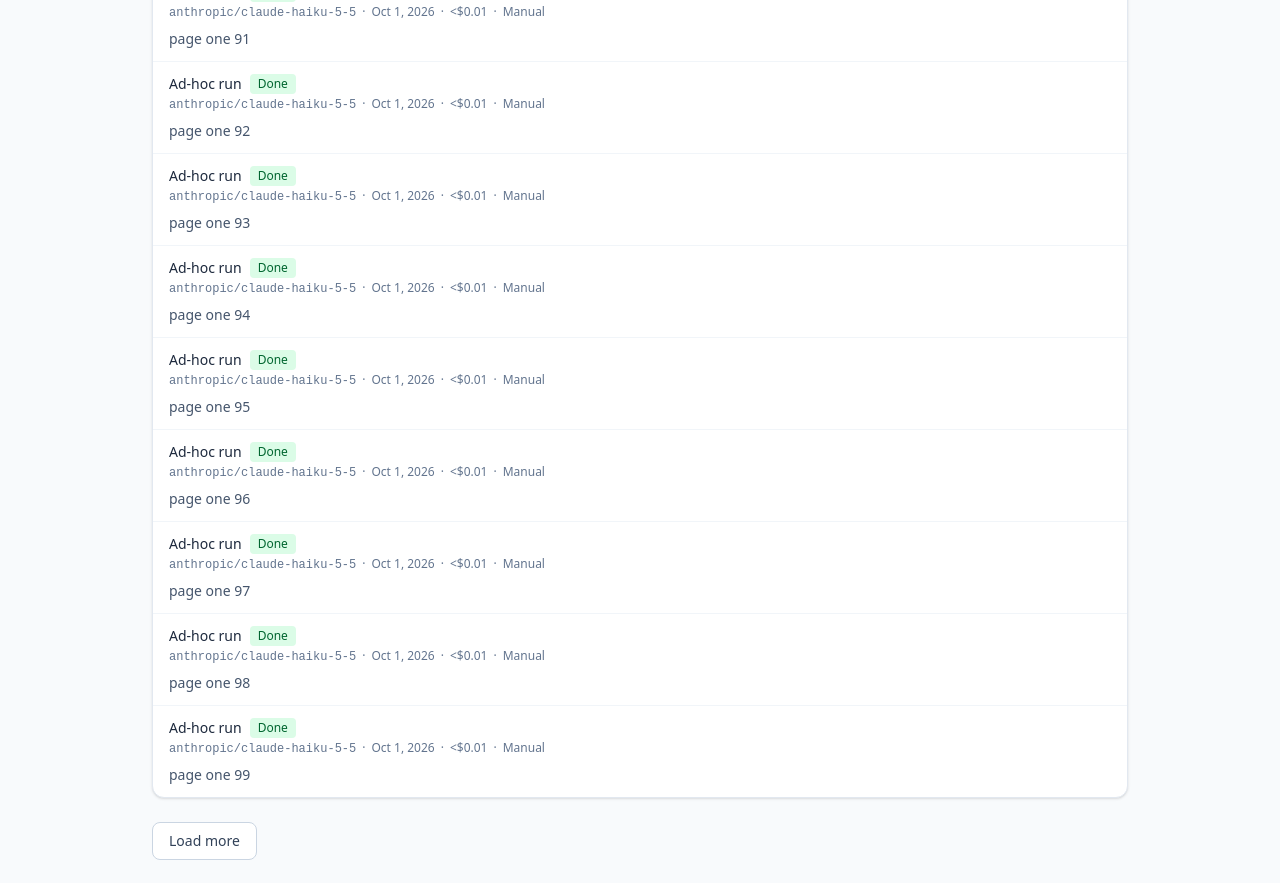
Test: AgentRuns › drops a Load more response that arrives after the filter changed
(page scrolled)
Click the button "Load more": (204, 841) [152,822,257,860]
(page scrolled)
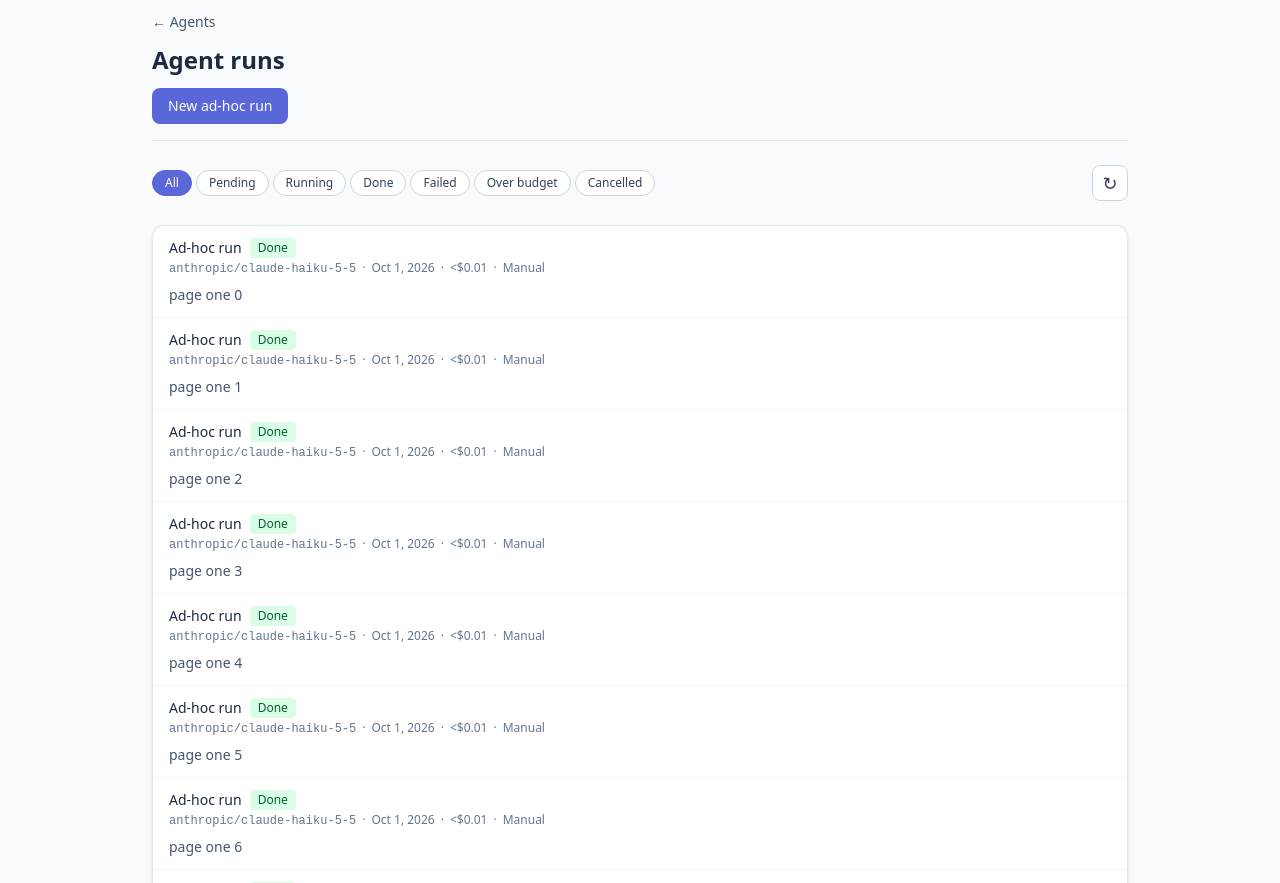
Click the button "Failed": (440, 183) [410,170,470,196]
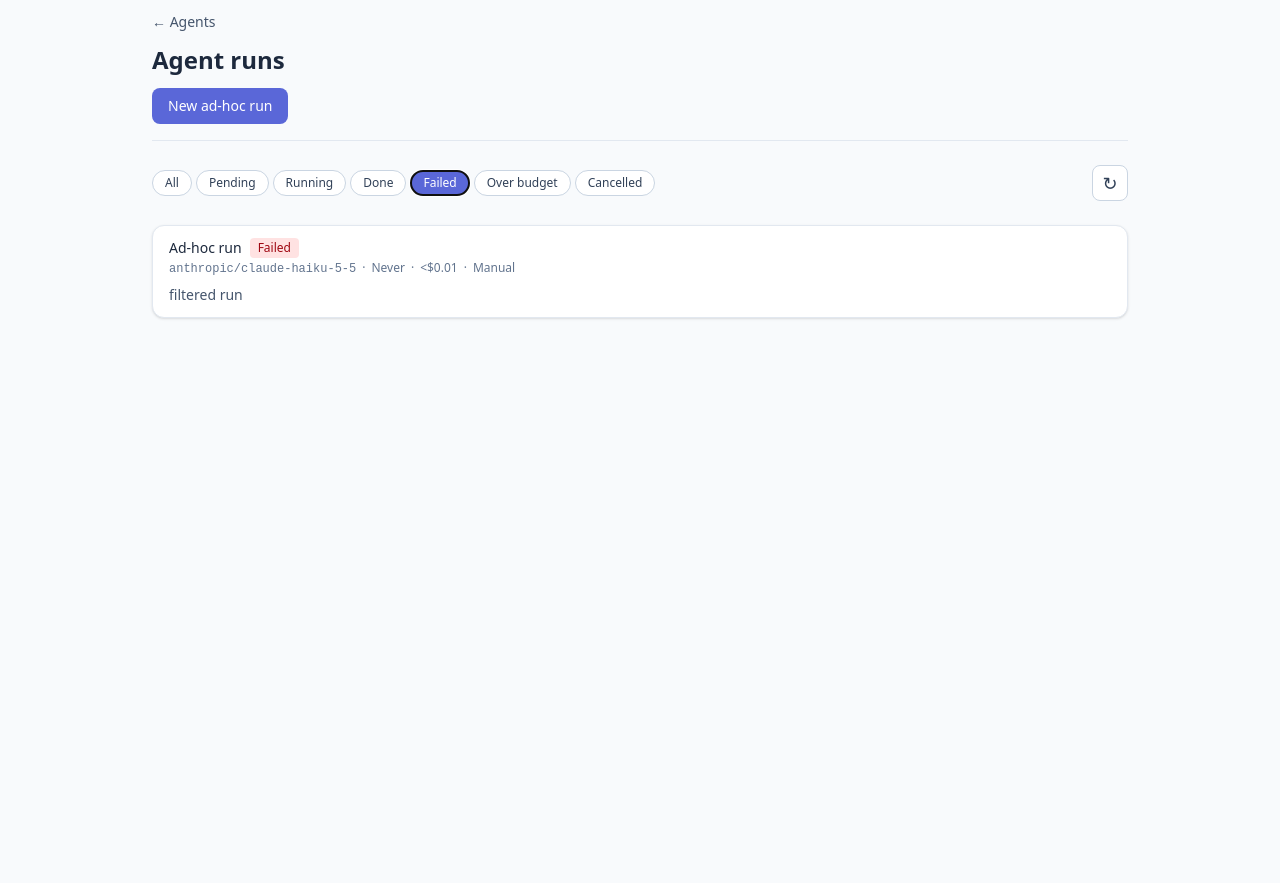
Check: the text "filtered run" is shown, box [169,285,243,304]
Check: the text "page one 0" is gone
